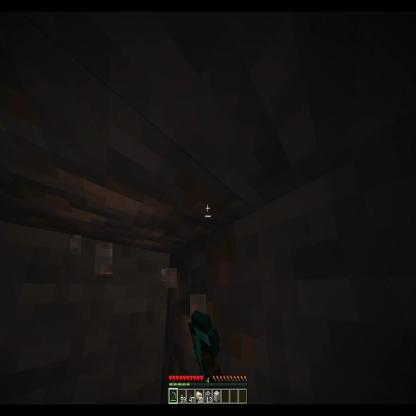iron ore: (0, 83, 243, 250), (168, 219, 271, 416)
